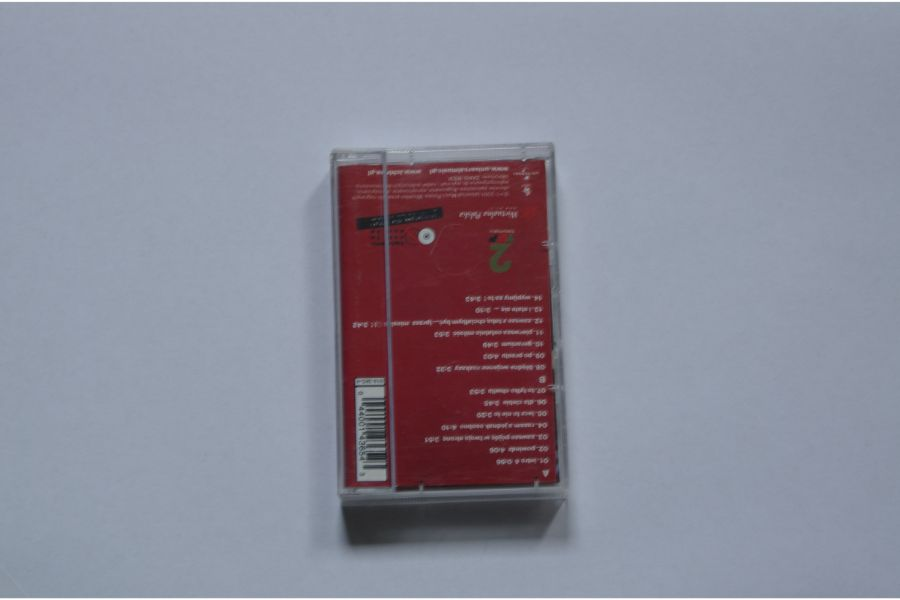album: (326, 143, 570, 502)
